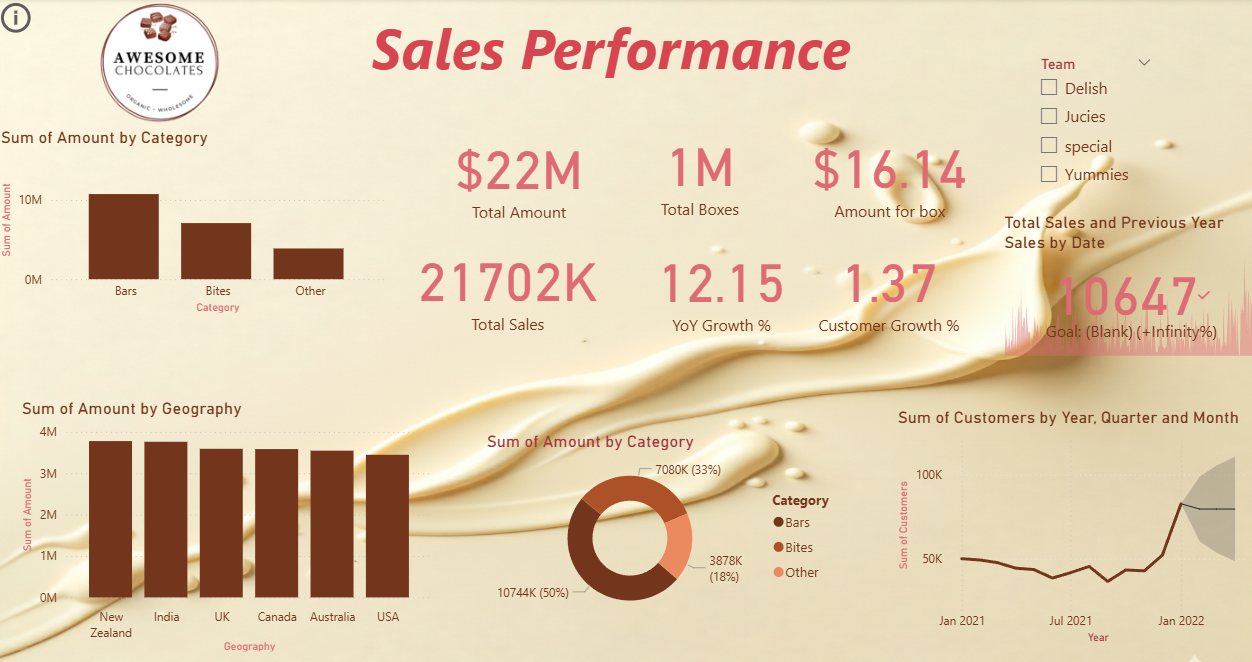

What the dashboard file says about the page in this screenshot:
{"tool":"powerbi","page":{"name":"Page 1","canvas":[1280,720],"ordinal":0},"visuals":[{"type":"slicer","fields":{"Values":["people.Team"]},"box":[1041.8,53,136.3,154.4],"z":1000},{"type":"columnChart","fields":{"Category":["products.Category"],"Y":["Sum(sales.Amount)"]},"box":[0,130.2,396.7,192.3],"z":2000},{"type":"columnChart","fields":{"Category":["sales.Geography"],"Y":["Sum(sales.Amount)"]},"box":[21.2,404.3,424,260.4],"z":3000},{"type":"textbox","box":[374,6.1,511.8,112.1],"z":4000},{"type":"image","box":[0,0,330.1,130.2],"z":5000},{"type":"card","fields":{"Values":["sales.Total Amount"]},"box":[445.2,127.2,165,99.9],"z":6000},{"type":"card","fields":{"Values":["locations.Total Boxes"]},"box":[629.9,112.1,160.5,124.2],"z":7000},{"type":"card","fields":{"Values":["locations.Amount for box"]},"box":[814.6,121.1,174.1,110.5],"z":8000},{"type":"actionButton","box":[0,0,100,40],"z":9000},{"type":"lineChart","fields":{"Category":["sales.Date.Variation.Date Hierarchy.Year","sales.Date.Variation.Date Hierarchy.Quarter","sales.Date.Variation.Date Hierarchy.Month","sales.Date.Variation.Date Hierarchy.Day"],"Y":["Sum(sales.Customers)"]},"box":[905.5,413.4,374,242.3],"z":10000},{"type":"donutChart","fields":{"Category":["products.Category"],"Y":["Sum(sales.Amount)"]},"box":[490.6,437.6,374,195.3],"z":10001},{"type":"card","fields":{"Values":["locations.Total Sales"]},"box":[396.7,236.2,239.2,107.5],"z":10002},{"type":"card","fields":{"Values":["locations.YoY Growth %"]},"box":[640.5,237.7,183.2,107.5],"z":10003},{"type":"card","fields":{"Values":["locations.Customer Growth %"]},"box":[813.1,237.7,175.6,107.5],"z":10004},{"type":"kpi","fields":{"Indicator":["locations.Total Sales"],"TrendLine":["sales.Date"],"Goal":["locations.Previous Year Sales"]},"box":[1013,216.5,266.5,149.9],"z":10005}]}

Visuals, with their boxes on the page's 1280x720 design canvas (x1, y1, x2, y2). These are canvas units, not pixel positions in the 1252x662 screenshot, which may show the page scaled, cropped or inside an application window:
slicer - people.Team: bbox=(1042, 53, 1178, 207)
columnChart - products.Category x Sum(sales.Amount): bbox=(0, 130, 397, 322)
columnChart - sales.Geography x Sum(sales.Amount): bbox=(21, 404, 445, 665)
textbox: bbox=(374, 6, 886, 118)
image: bbox=(0, 0, 330, 130)
card - sales.Total Amount: bbox=(445, 127, 610, 227)
card - locations.Total Boxes: bbox=(630, 112, 790, 236)
card - locations.Amount for box: bbox=(815, 121, 989, 232)
actionButton: bbox=(0, 0, 100, 40)
lineChart - sales.Date.Variation.Date Hierarchy.Year x sales.Date.Variation.Date Hierarchy.Quarter: bbox=(906, 413, 1280, 656)
donutChart - products.Category x Sum(sales.Amount): bbox=(491, 438, 865, 633)
card - locations.Total Sales: bbox=(397, 236, 636, 344)
card - locations.YoY Growth %: bbox=(640, 238, 824, 345)
card - locations.Customer Growth %: bbox=(813, 238, 989, 345)
kpi - locations.Total Sales x sales.Date: bbox=(1013, 216, 1280, 366)
